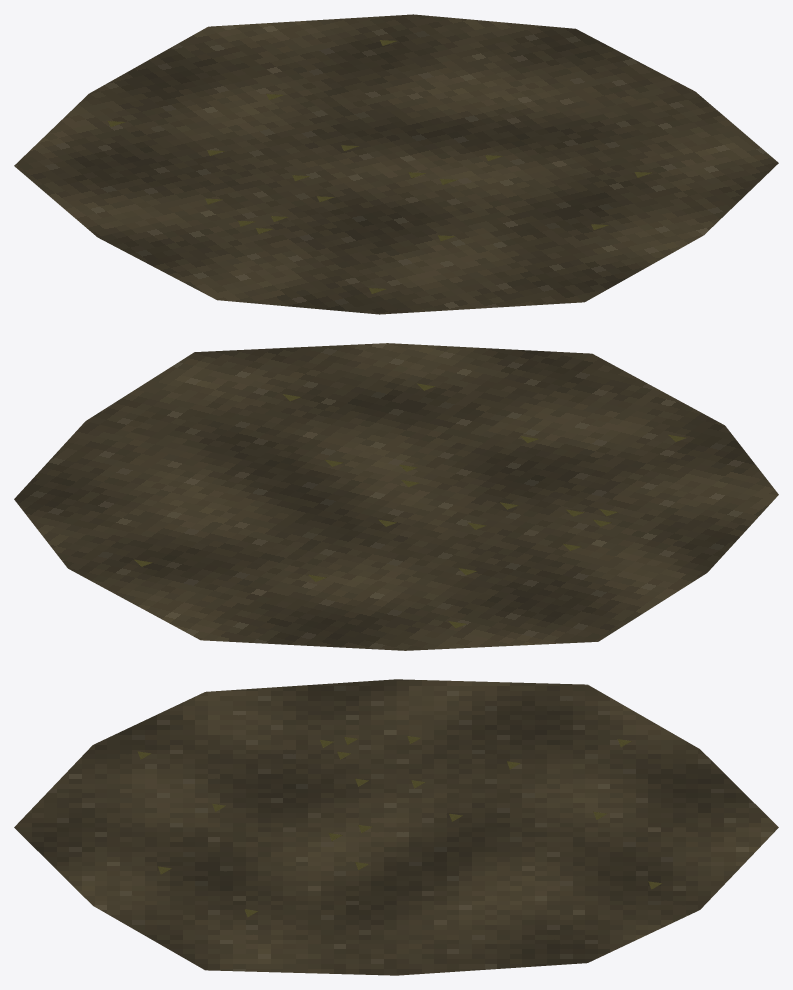
File: level_woodland_litter.glb
3 views of the same model, one above another, from view 1: azimuth 30°, elevation 25°; view 2: azimuth 150°, elevation 25°; view 3: azimuth 270°, elevation 25° (orthographic). The views are drawn at different scales.
Visible parts, largest first — view 1: level_woodland_litter; view 2: level_woodland_litter; view 3: level_woodland_litter.
Boxes of the visible parts, x1,y1,x2,y2 form: level_woodland_litter: (14,14,778,314); level_woodland_litter: (14,343,778,650); level_woodland_litter: (14,679,778,975).
Bounding box in the file's own units: 0.88 × 0.001 × 0.96.
2 materials, 2 textured.
